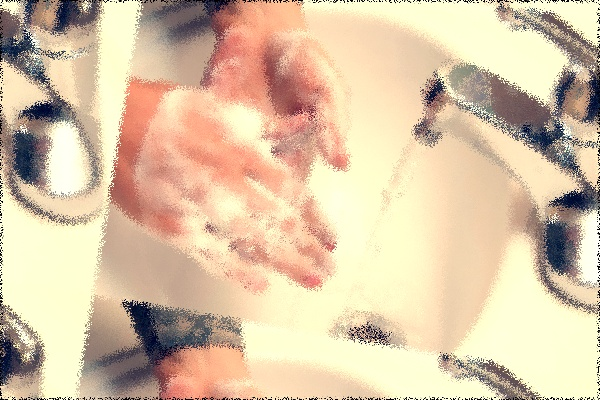washing hand: (98, 0, 546, 359)
